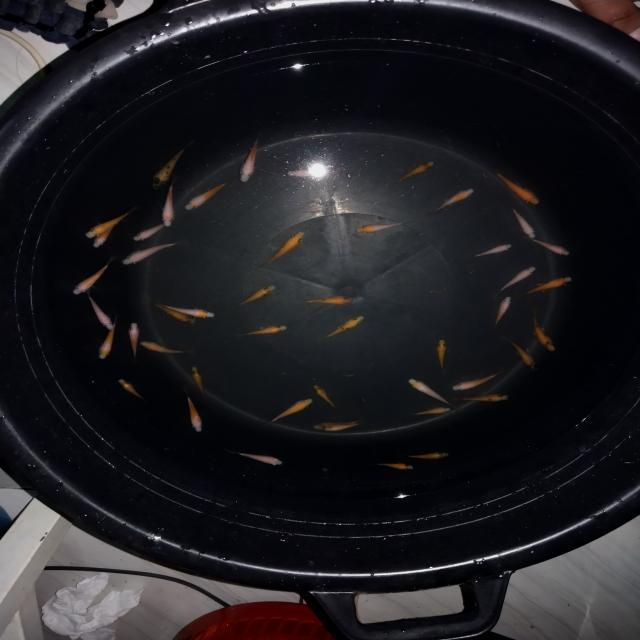nila: (146, 142, 198, 195), (250, 228, 307, 270), (490, 169, 542, 207), (84, 204, 136, 240), (120, 238, 182, 268), (68, 256, 112, 298), (399, 374, 451, 408), (140, 298, 198, 328), (526, 307, 562, 355), (501, 335, 543, 375), (263, 396, 315, 428), (177, 385, 210, 435), (182, 180, 230, 214), (237, 129, 266, 185), (315, 313, 368, 343), (428, 185, 479, 215), (520, 272, 574, 300), (83, 290, 117, 333), (493, 264, 538, 296), (158, 299, 219, 322), (231, 282, 280, 310), (448, 368, 505, 392), (96, 318, 124, 365), (225, 448, 286, 469), (392, 158, 438, 184), (136, 337, 194, 357), (348, 216, 406, 236), (301, 292, 364, 310), (488, 292, 518, 328), (84, 222, 120, 250), (114, 377, 150, 405), (310, 414, 366, 432), (130, 218, 168, 244), (509, 208, 538, 242), (428, 334, 452, 374), (530, 238, 572, 260), (310, 382, 340, 412), (469, 240, 514, 260), (236, 322, 288, 339), (162, 178, 178, 230), (454, 392, 514, 405), (372, 458, 414, 475), (190, 362, 208, 400), (126, 320, 140, 366), (410, 404, 450, 419), (403, 451, 456, 462), (324, 420, 366, 433), (280, 169, 312, 179)
